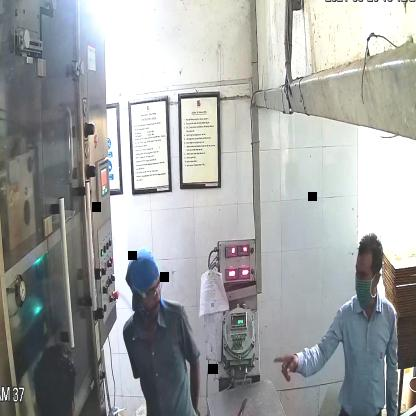goggles: (127, 274, 165, 299)
no_goggles: (352, 261, 379, 286)
